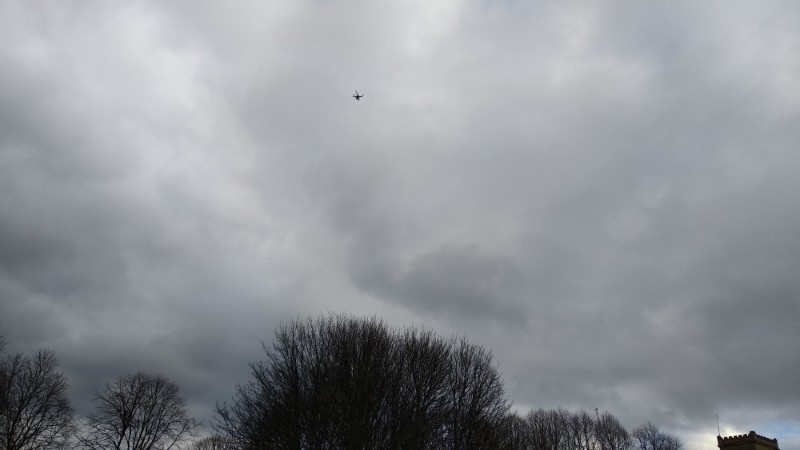drone: (351, 90, 366, 102)
